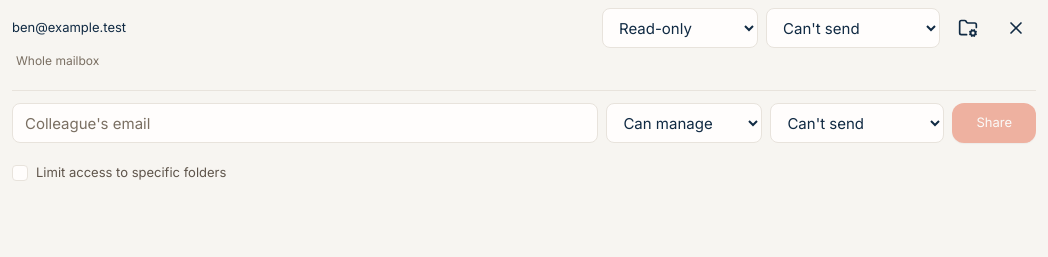
Test: mailbox sharing › each folder box carries its own folder's name
What coordinates should you click on to do the following:
click the checkbox labelled "Limit access to specific folders"
I would click on:
 (119, 172)
Its box is [12, 164, 226, 181].
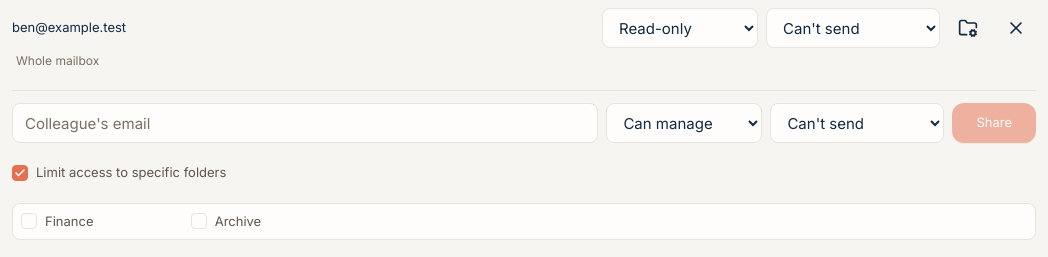
Check: the checkbox labelled "Finance" is shown, box [21, 212, 94, 229]
Check: the checkbox labelled "Archive" is shown, box [191, 212, 261, 229]
